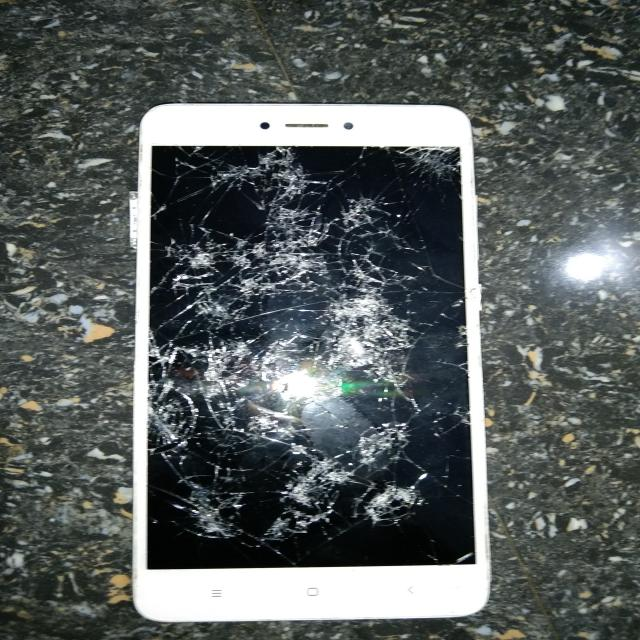Crack: (139, 324, 481, 575), (143, 115, 473, 329)
